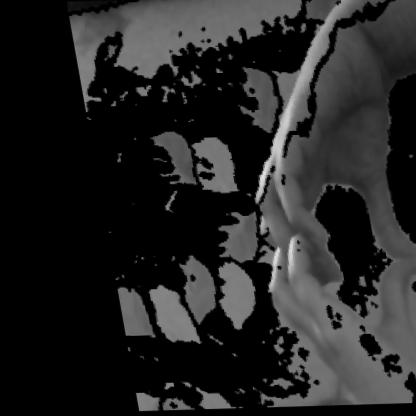heart: (228, 86, 415, 378)
